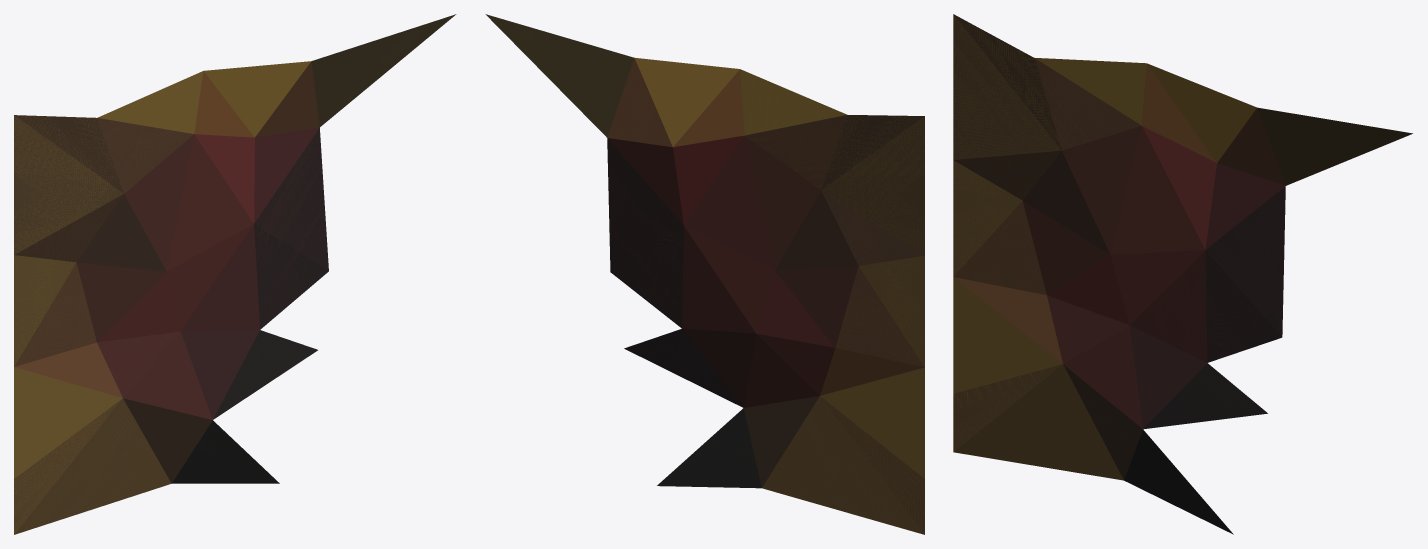
The model's file is Prop_FlagCWorn.fbx.
3 renders of one model, left to right at view 1: azimuth 30°, elevation 25°; view 2: azimuth 150°, elevation 25°; view 3: azimuth 330°, elevation 25°, orthographic. The views are drawn at different scales.
Visible parts, largest first — view 1: Prop_FlagCWorn; view 2: Prop_FlagCWorn; view 3: Prop_FlagCWorn.
Boxes of the visible parts, x1,y1,x2,y2 form: Prop_FlagCWorn: (14,14,456,534); Prop_FlagCWorn: (485,14,924,534); Prop_FlagCWorn: (953,14,1412,534).
Bounding box in the file's own units: 138 × 129 × 8.03.
